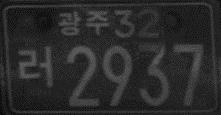2: (65, 44, 101, 106), (136, 8, 161, 40)
3: (136, 42, 169, 105), (112, 8, 136, 39)
7: (173, 41, 204, 108)
9: (100, 43, 133, 106)
광주_O: (56, 8, 110, 38)
러: (18, 45, 54, 86)
